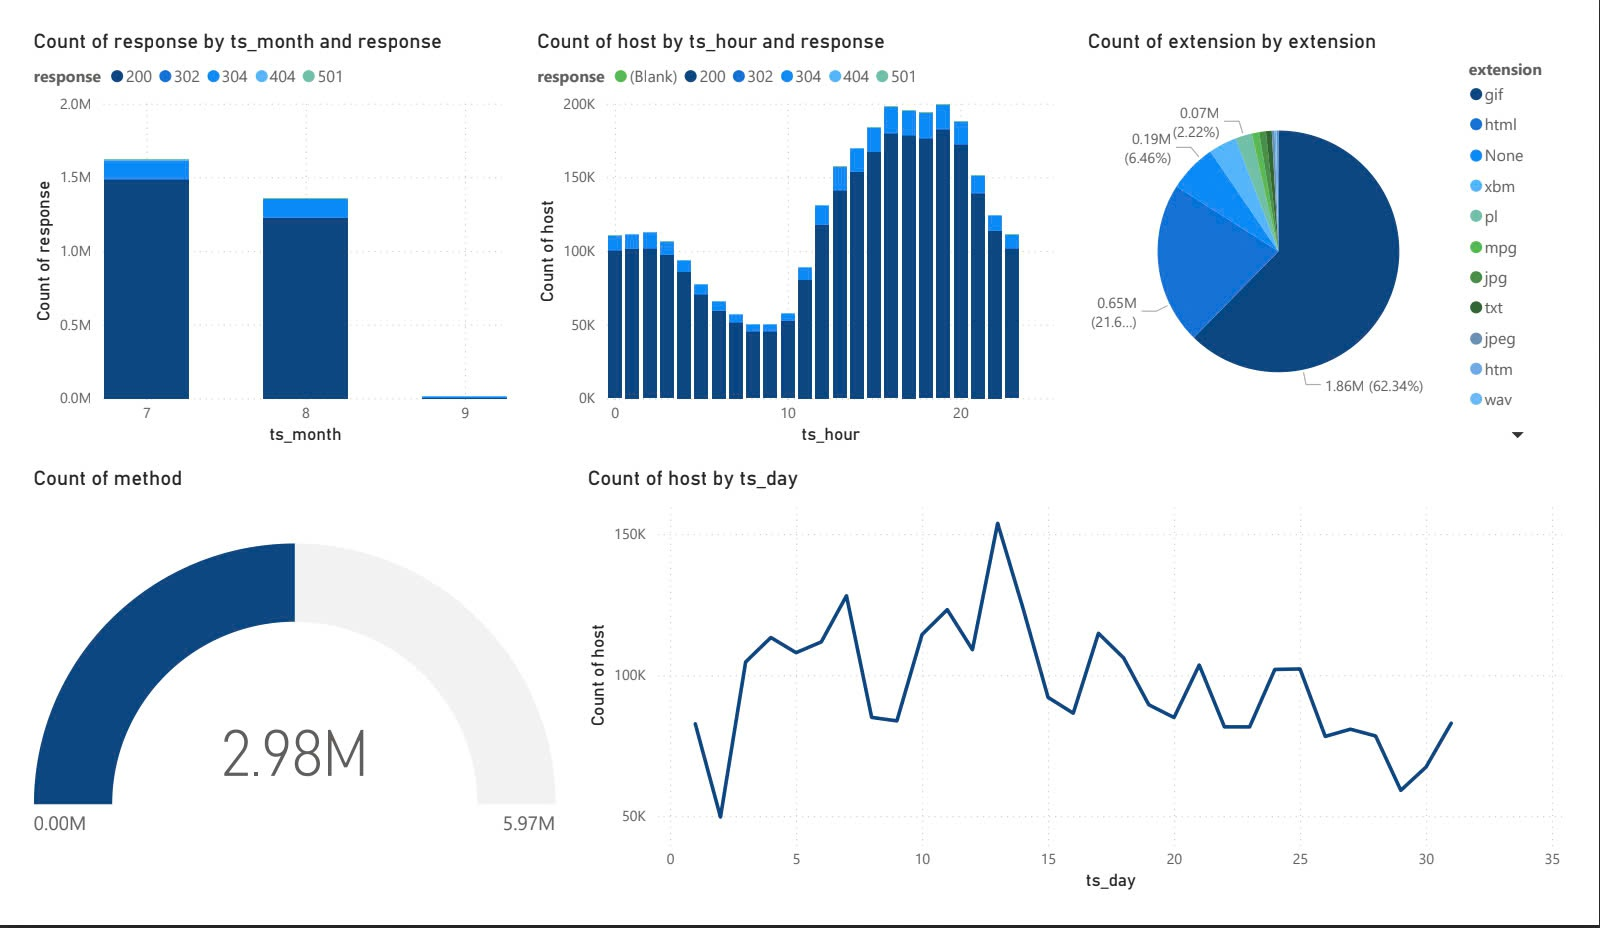

This screenshot's page, from the dashboard's own definition file:
{"tool":"powerbi","page":{"name":"Page 1","canvas":[1280,720],"ordinal":0},"visuals":[{"type":"columnChart","fields":{"Category":["nasa_log log (2).ts_month"],"Series":["nasa_log log (2).response"],"Y":["CountNonNull(nasa_log log (2).response)"]},"box":[0,0,402.7,350.5],"z":0},{"type":"columnChart","fields":{"Series":["nasa_log log (2).response"],"Category":["nasa_log log (2).ts_hour"],"Y":["CountNonNull(nasa_log log (2).host)"]},"box":[418,0,439.7,350.5],"z":2000},{"type":"gauge","fields":{"Y":["CountNonNull(nasa_log log (2).method)"]},"box":[0,362.9,443.4,357.1],"z":3000},{"type":"pieChart","fields":{"Y":["CountNonNull(nasa_log log (2).extension)"],"Category":["nasa_log log (2).extension"]},"box":[875.1,0,404.9,350.5],"z":3001},{"type":"lineChart","fields":{"Category":["nasa_log log (2).ts_month Hierarchy.ts_day"],"Y":["CountNonNull(nasa_log log (2).host)"]},"box":[459.5,362.9,821,357.1],"z":3002}]}

Visuals, with their boxes on the page's 1280x720 design canvas (x1, y1, x2, y2). These are canvas units, not pixel positions in the 1600x928 screenshot, which may show the page scaled, cropped or inside an application window:
columnChart - nasa_log log (2).ts_month x nasa_log log (2).response: select_region(0, 0, 403, 350)
columnChart - nasa_log log (2).response x nasa_log log (2).ts_hour: select_region(418, 0, 858, 350)
gauge - CountNonNull(nasa_log log (2).method): select_region(0, 363, 443, 720)
pieChart - CountNonNull(nasa_log log (2).extension) x nasa_log log (2).extension: select_region(875, 0, 1280, 350)
lineChart - nasa_log log (2).ts_month Hierarchy.ts_day x CountNonNull(nasa_log log (2).host): select_region(460, 363, 1280, 720)
